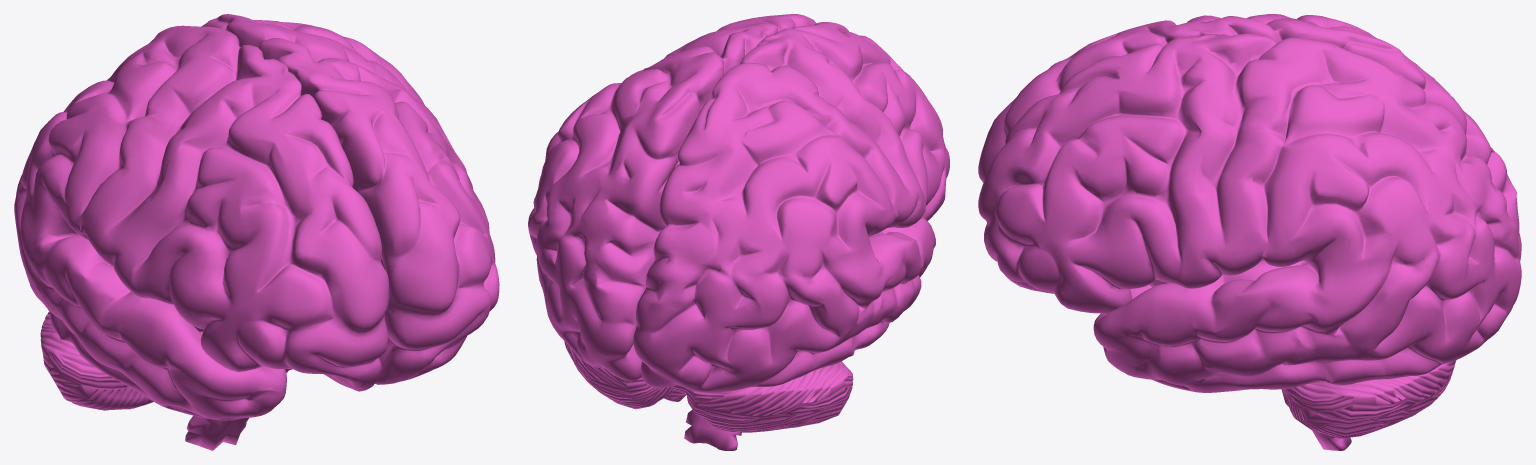
Rendered from brain.glb.
The picture shows the model from 3 angles, left to right: view 1: azimuth 30°, elevation 25°; view 2: azimuth 150°, elevation 25°; view 3: azimuth 270°, elevation 25°; orthographic projection. The views are drawn at different scales.
Visible parts, largest first — view 1: Brain; view 2: Brain; view 3: Brain.
Boxes of the visible parts, x1,y1,x2,y2 form: Brain: (14,14,499,450); Brain: (528,14,949,450); Brain: (978,14,1521,450).
Bounding box in the file's own units: 3.8 × 4.02 × 4.73.
